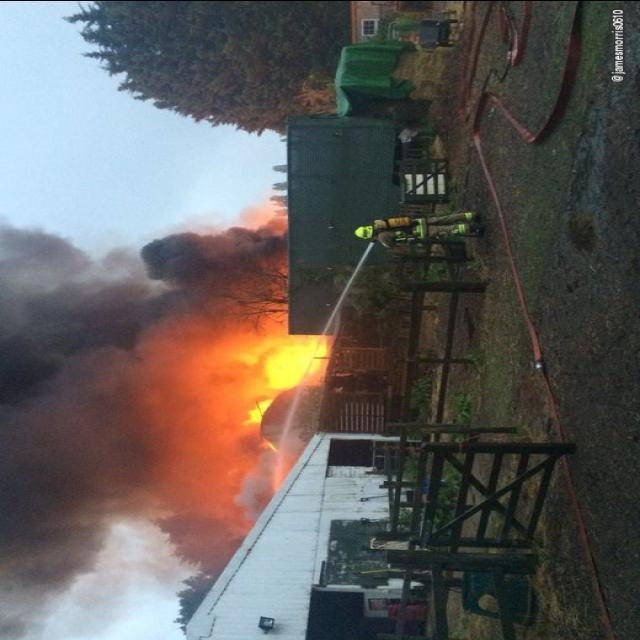Fire: (182, 289, 346, 451)
